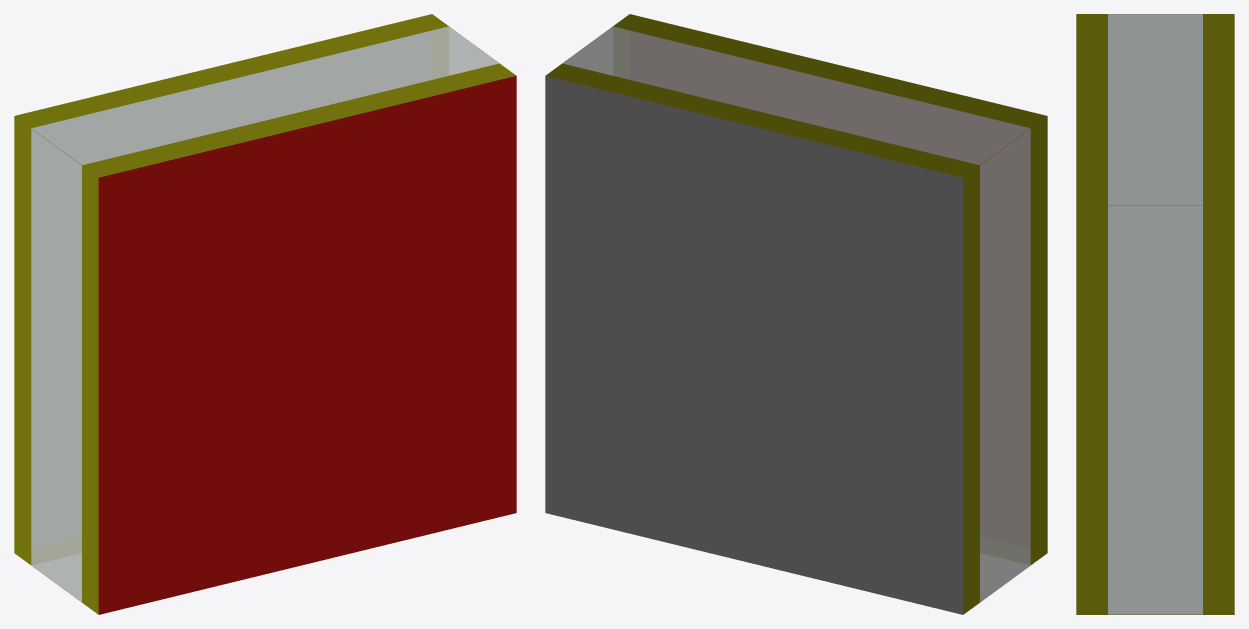
The model's file is boring_hut.obj.
3 views of the same model, side by side, from view 1: azimuth 30°, elevation 25°; view 2: azimuth 150°, elevation 25°; view 3: azimuth 270°, elevation 25° (orthographic). The views are drawn at different scales.
Size of the model in its own units: 10 by 10 by 3.5.
